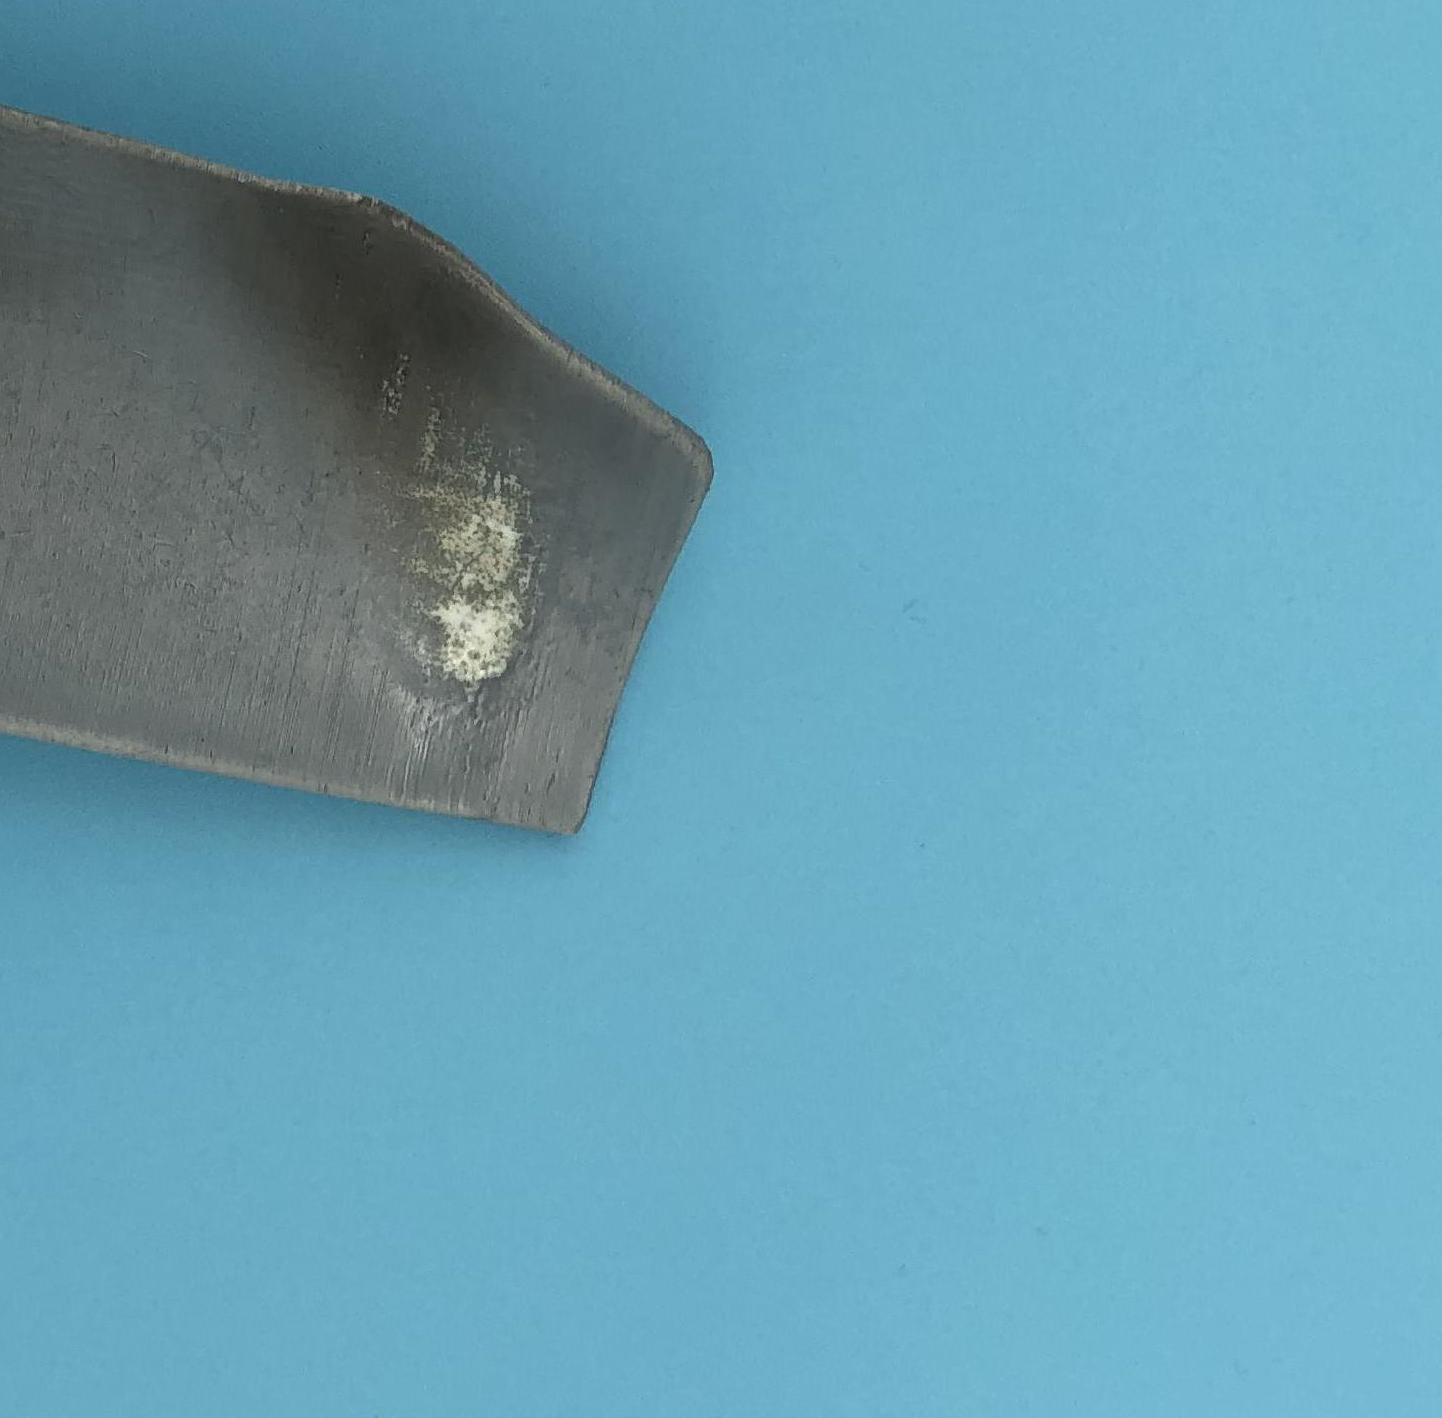ablation: (321, 251, 517, 501)
